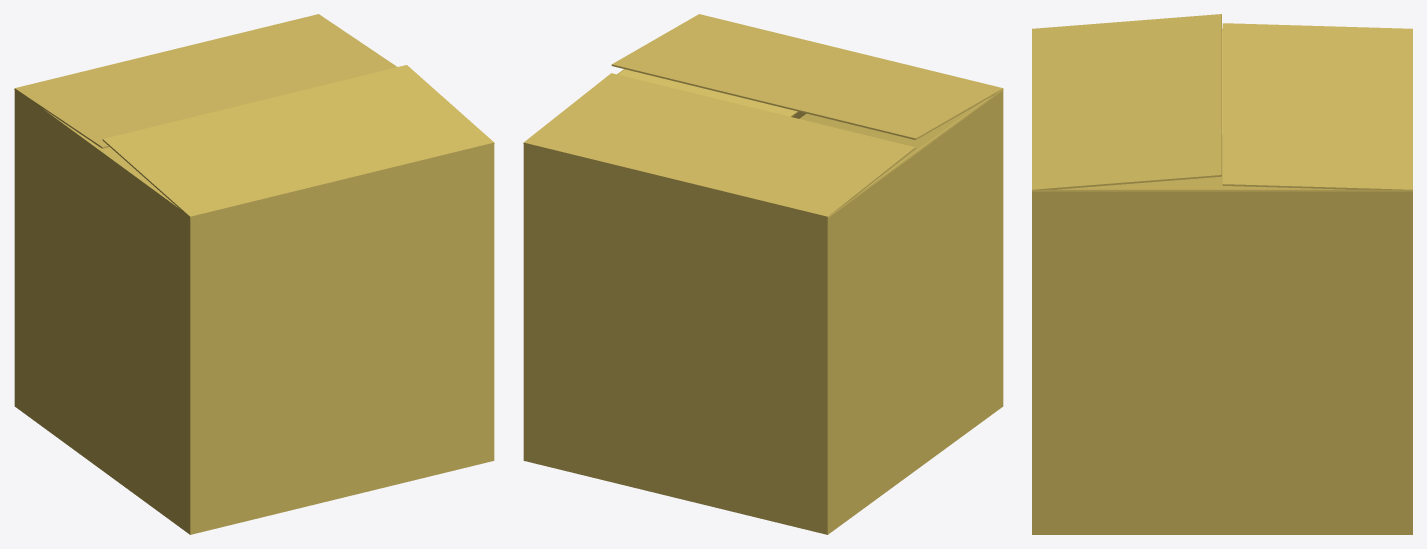
File: KardusTutup.fbx
The picture shows the model from 3 angles, left to right: view 1: azimuth 30°, elevation 25°; view 2: azimuth 150°, elevation 25°; view 3: azimuth 270°, elevation 25°; orthographic projection. The views are drawn at different scales.
Parts seen in each view (by area): view 1: Cube.019; view 2: Cube.019; view 3: Cube.019.
Part boxes in pixels (<box>): Cube.019: <box>14,14,494,534</box>; Cube.019: <box>523,14,1003,534</box>; Cube.019: <box>1032,14,1412,534</box>.
Bounding box in the file's own units: 200 × 209 × 200.
